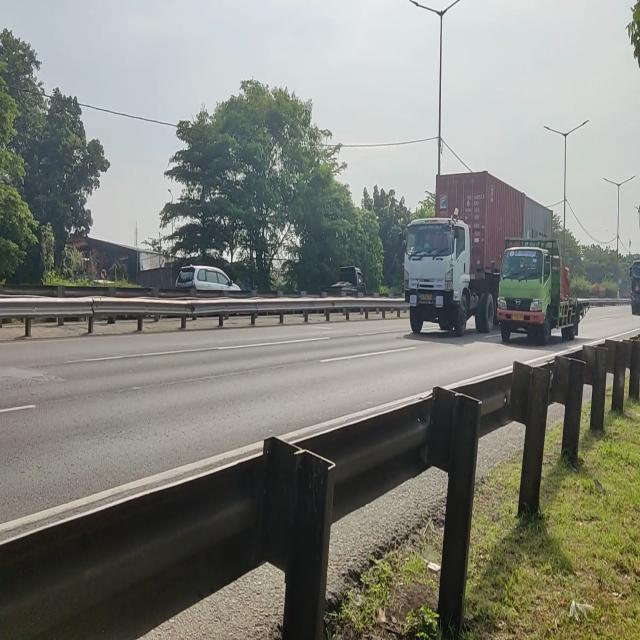Golongan II: (495, 228, 591, 348)
